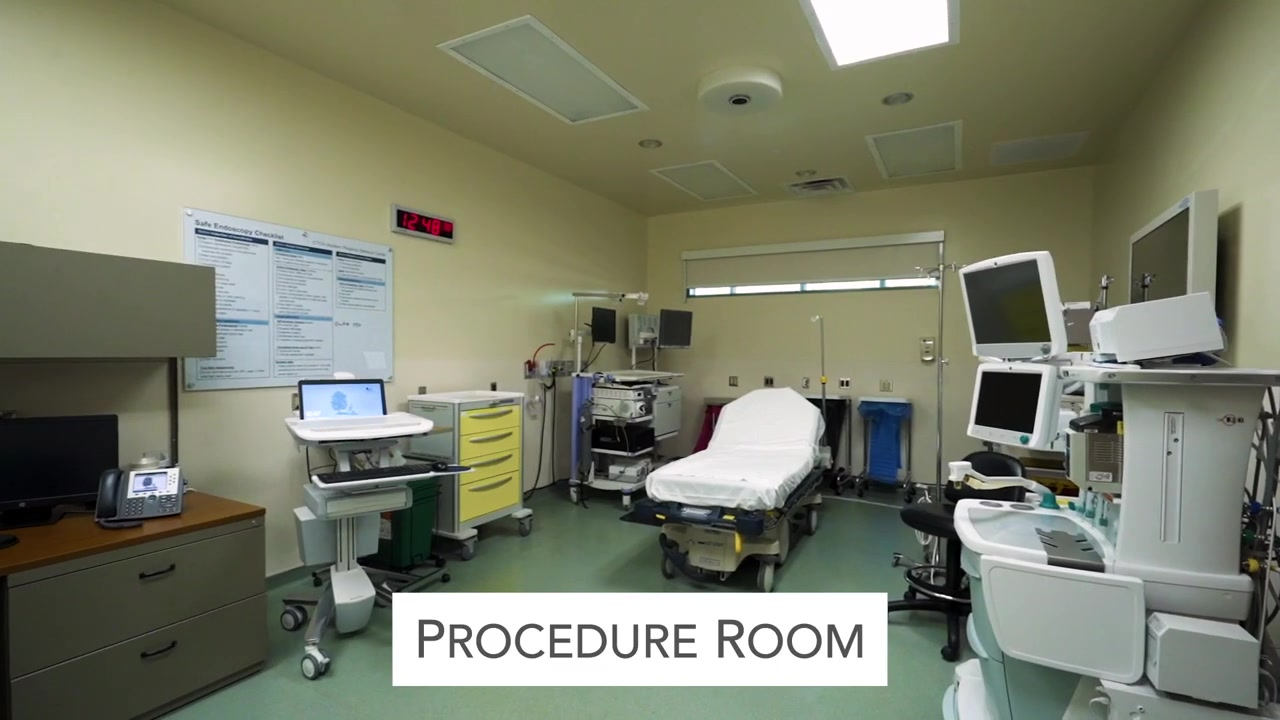bedside_monitor: (957, 249, 1069, 361), (1126, 185, 1215, 302), (970, 360, 1062, 450), (660, 307, 695, 352), (591, 307, 618, 347)
chair: (882, 452, 1025, 662)
computer: (1, 409, 122, 517), (299, 376, 389, 420)
countertop: (3, 490, 266, 569)
drawer: (1, 493, 264, 720)
exam_table: (633, 385, 825, 592)
handle: (962, 609, 994, 661), (956, 549, 987, 590), (465, 452, 517, 474), (467, 475, 514, 495), (139, 564, 182, 585), (142, 642, 185, 663), (469, 433, 518, 447), (468, 409, 517, 422)
iv_pole: (916, 244, 959, 503), (811, 310, 838, 488)
keyboard: (315, 463, 435, 485)
medical_drawer: (415, 388, 534, 560)
mouse: (432, 460, 451, 473)
telephone: (95, 463, 186, 526)
utility_cart: (581, 367, 684, 509)
waste_bin: (854, 396, 917, 500)
